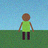person: (19, 13, 34, 39)
